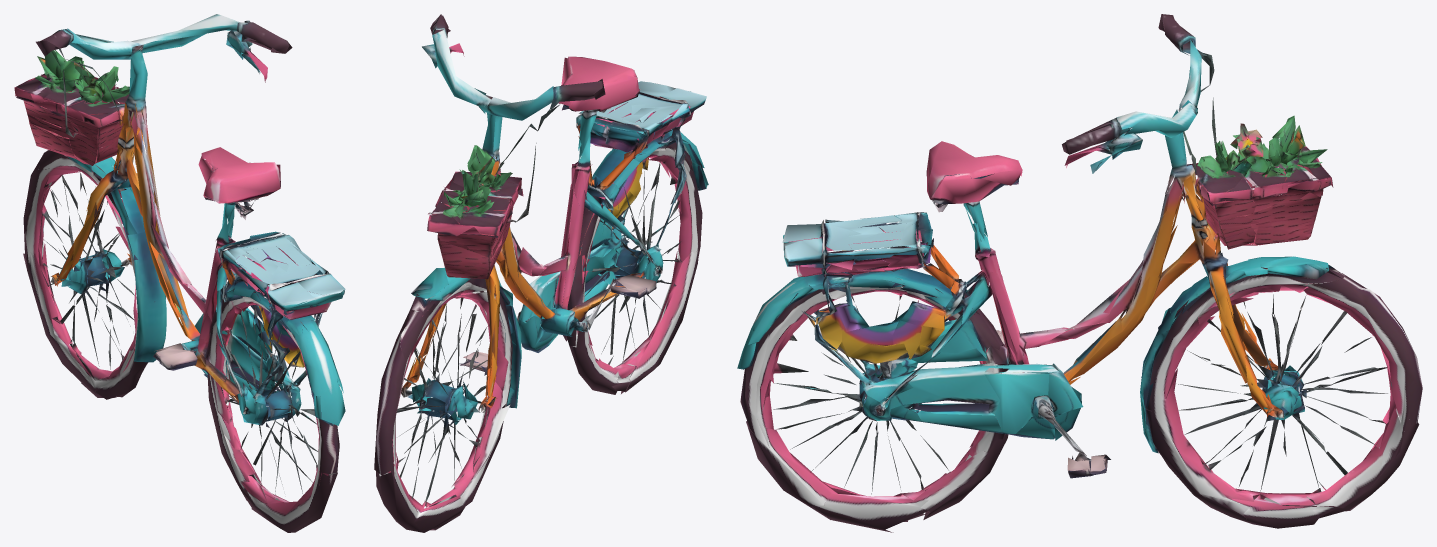
Rendered from Bicycle.fbx.
3 renders of one model, left to right at view 1: azimuth 30°, elevation 25°; view 2: azimuth 150°, elevation 25°; view 3: azimuth 270°, elevation 25°, orthographic. The views are drawn at different scales.
Visible parts, largest first — view 1: Bicycle; view 2: Bicycle; view 3: Bicycle.
Boxes of the visible parts, x1,y1,x2,y2 form: Bicycle: (14, 14, 345, 532); Bicycle: (374, 14, 708, 532); Bicycle: (737, 14, 1422, 532).
Bounding box in the file's own units: 0.6896 × 1.31 × 1.75.
